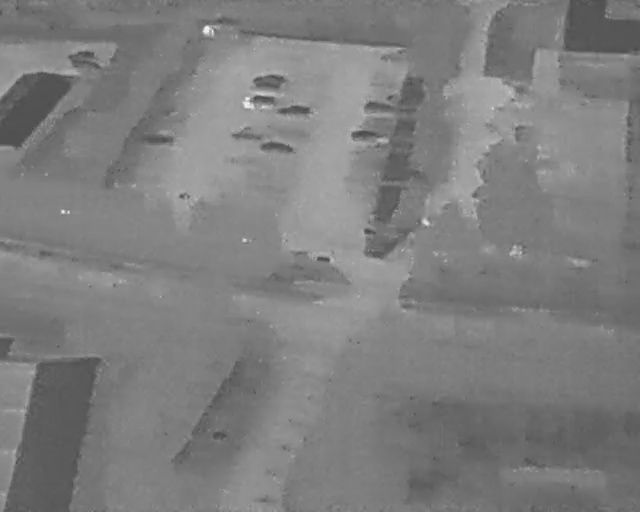Car: (276, 106, 314, 121), (243, 94, 276, 110), (260, 141, 295, 156), (250, 83, 285, 97), (364, 101, 395, 116), (71, 59, 103, 73), (252, 74, 288, 86), (350, 130, 385, 142), (68, 51, 100, 62)
